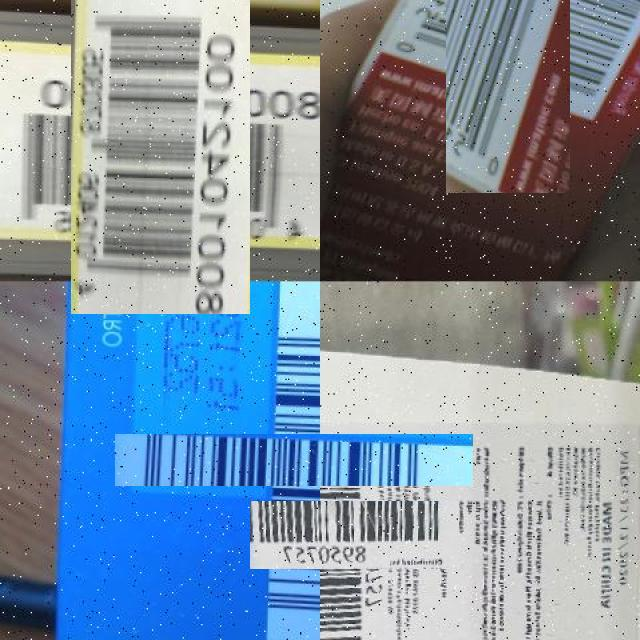Barcode: (35, 29, 285, 279), (191, 358, 397, 563), (411, 0, 605, 158), (284, 466, 424, 604)
